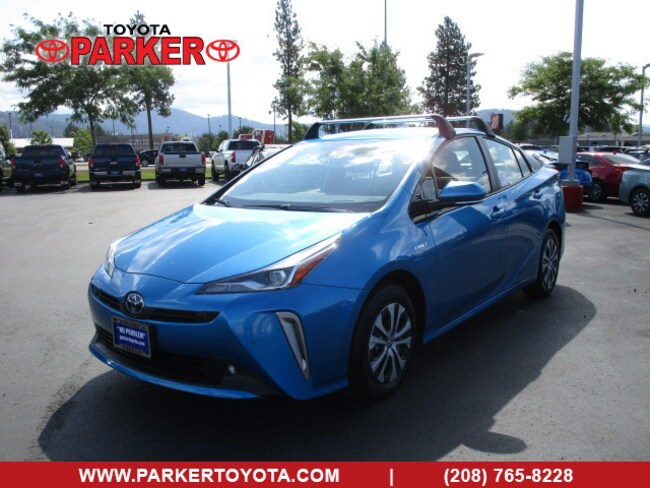Toyota Prius: (87, 127, 566, 400)
